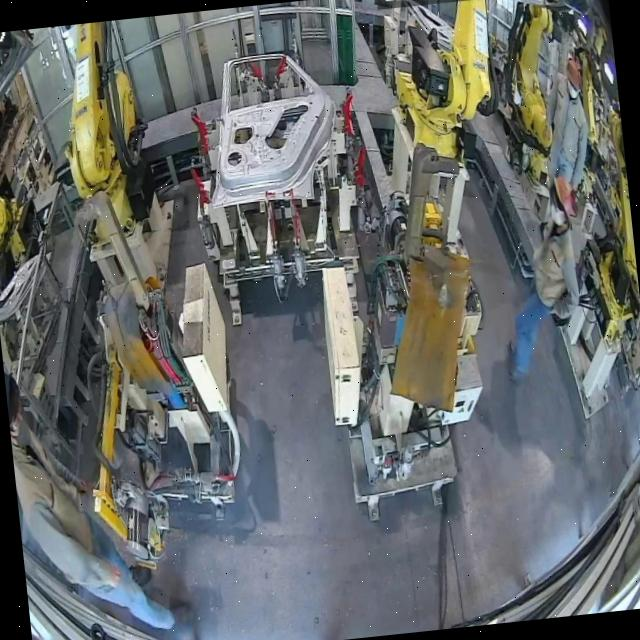Person: (2, 350, 124, 600), (531, 48, 600, 235)
